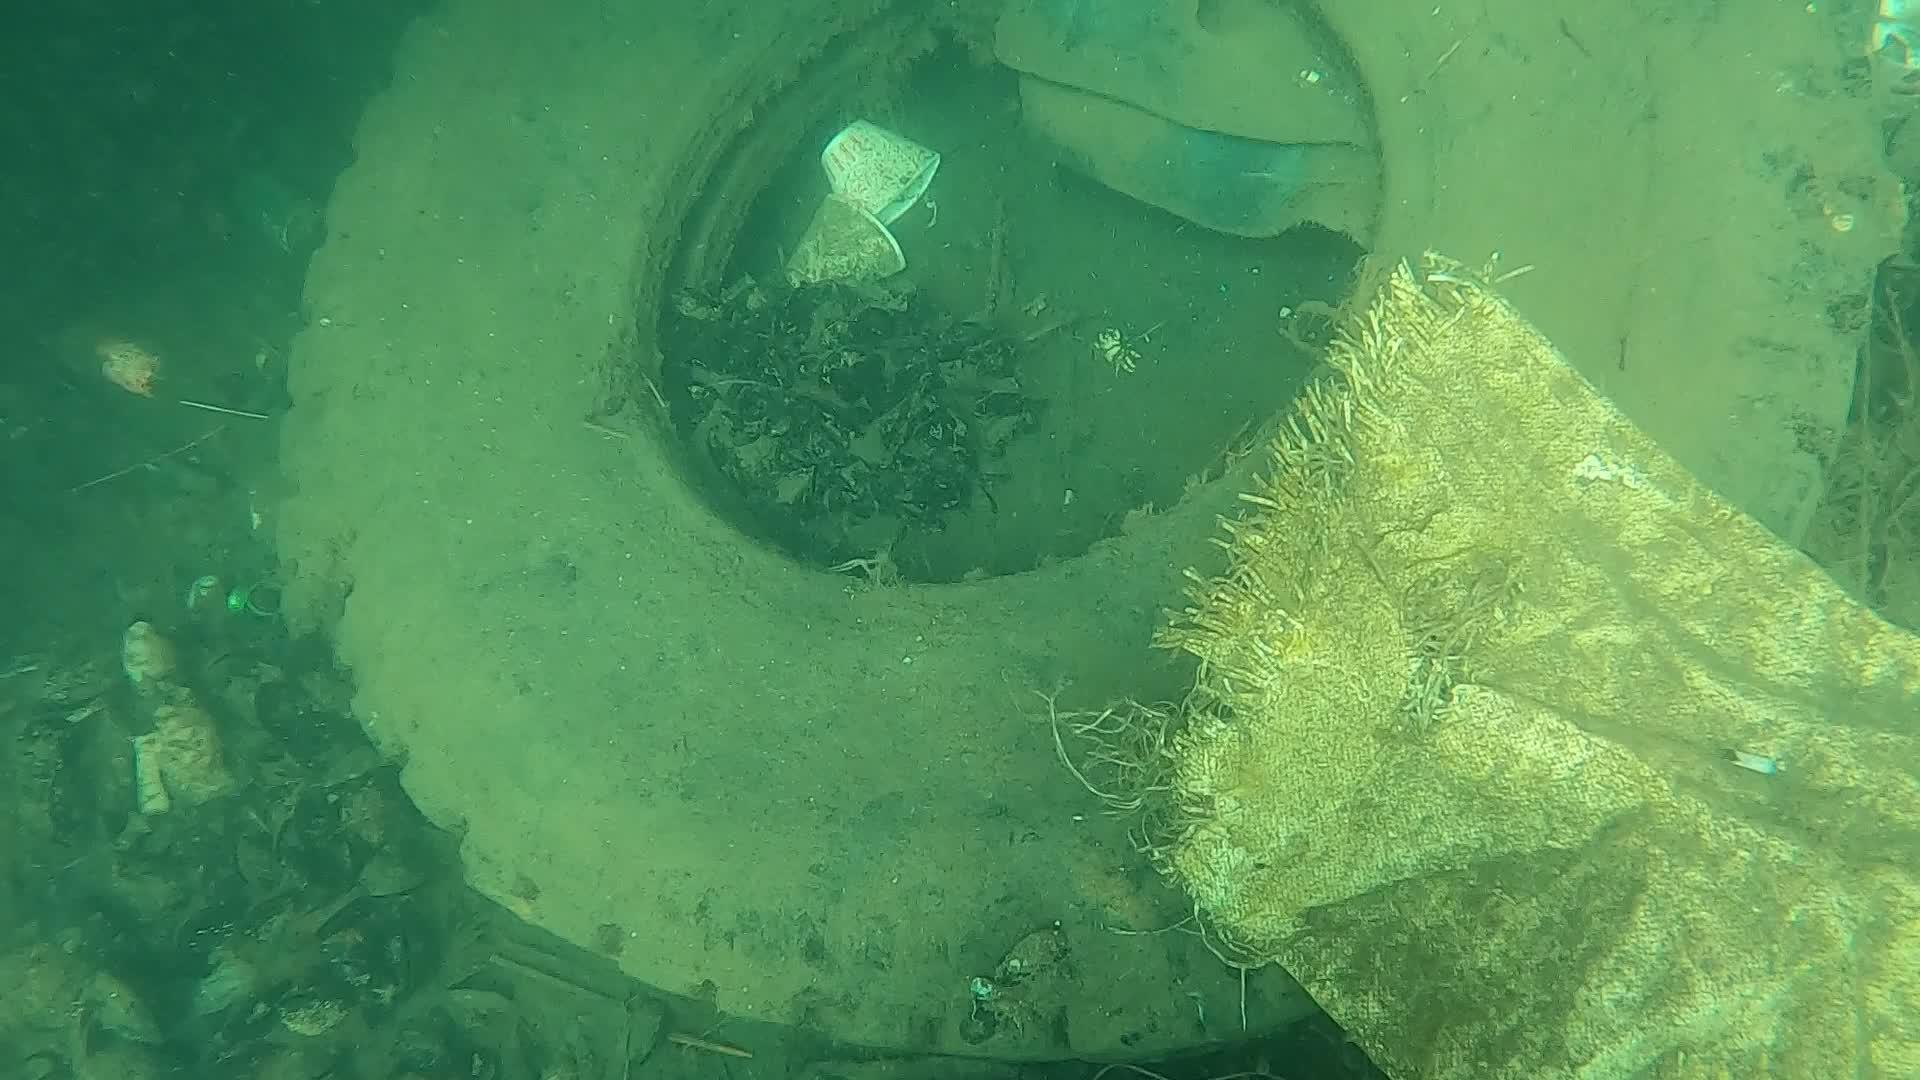tire: (272, 0, 1874, 1064)
